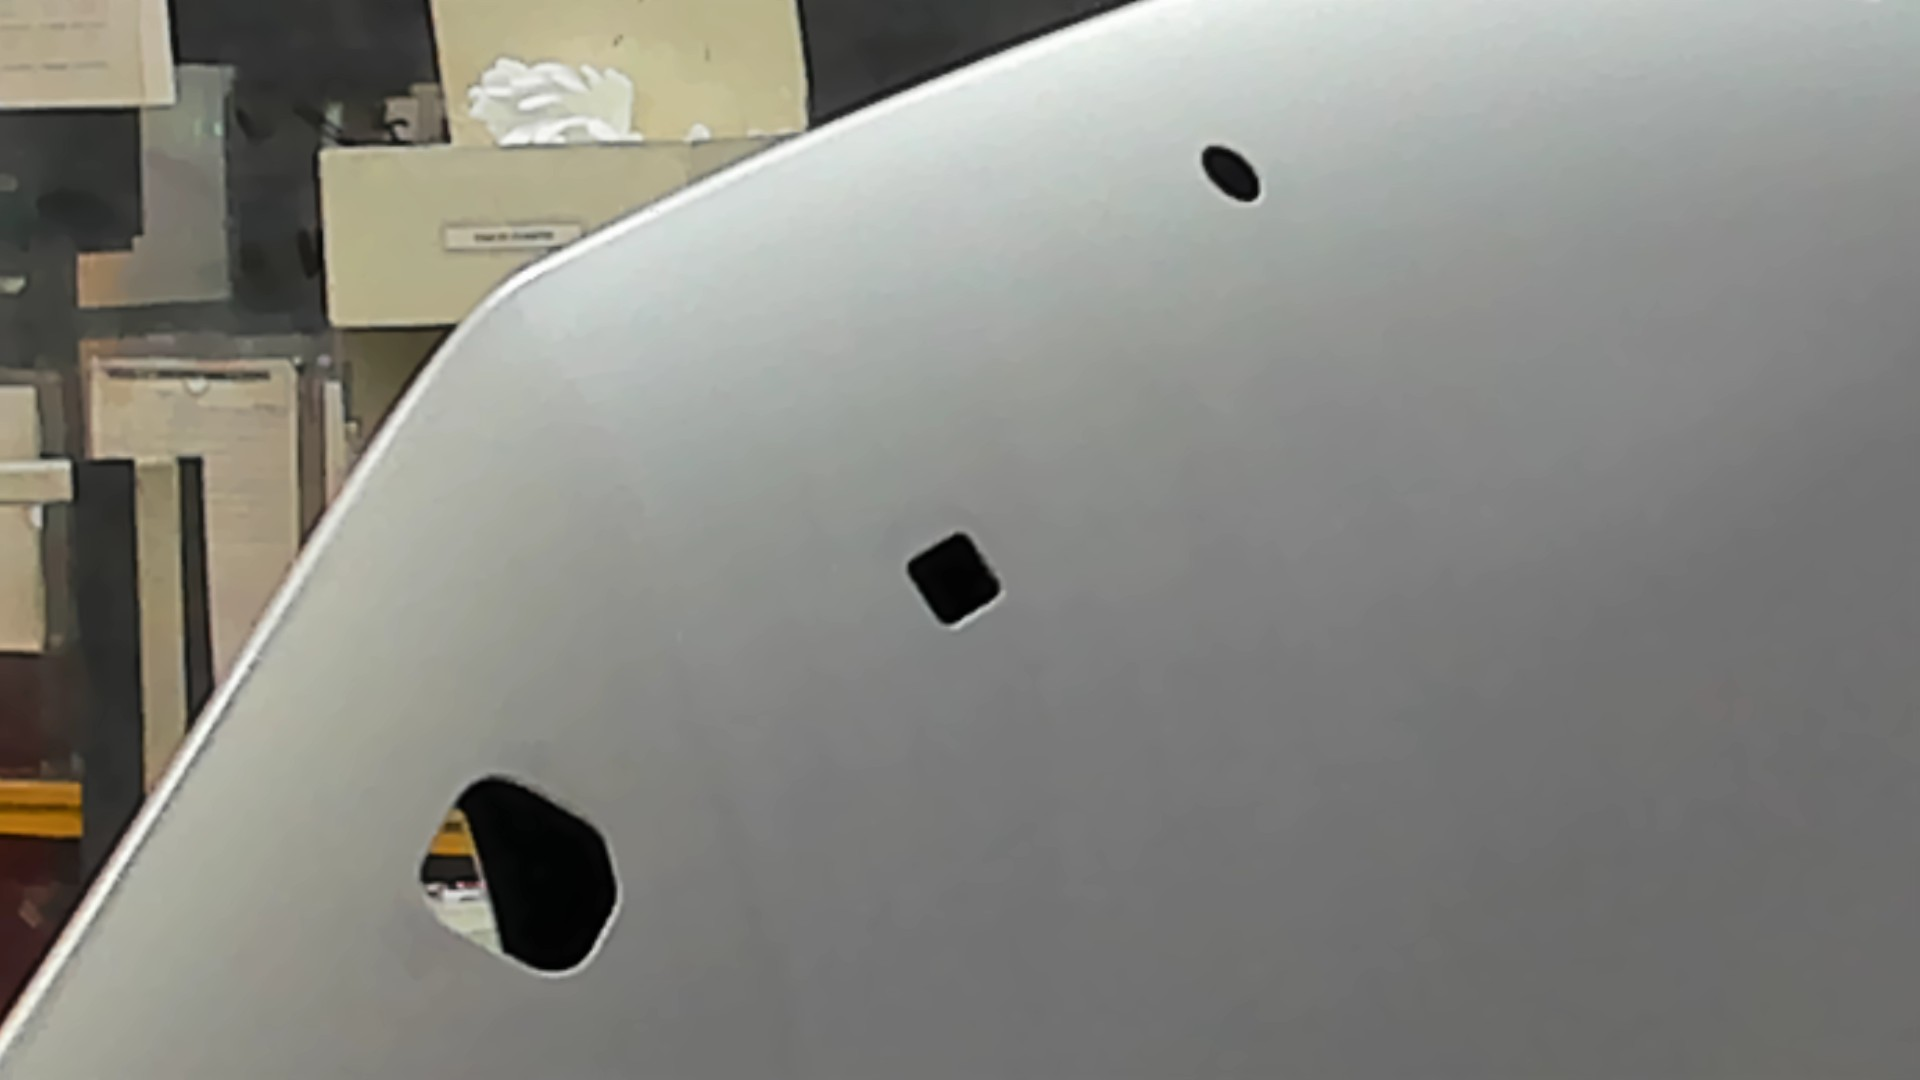Agujero: (905, 531, 1004, 632), (1197, 142, 1262, 204)
Agujerote: (415, 770, 622, 981)
